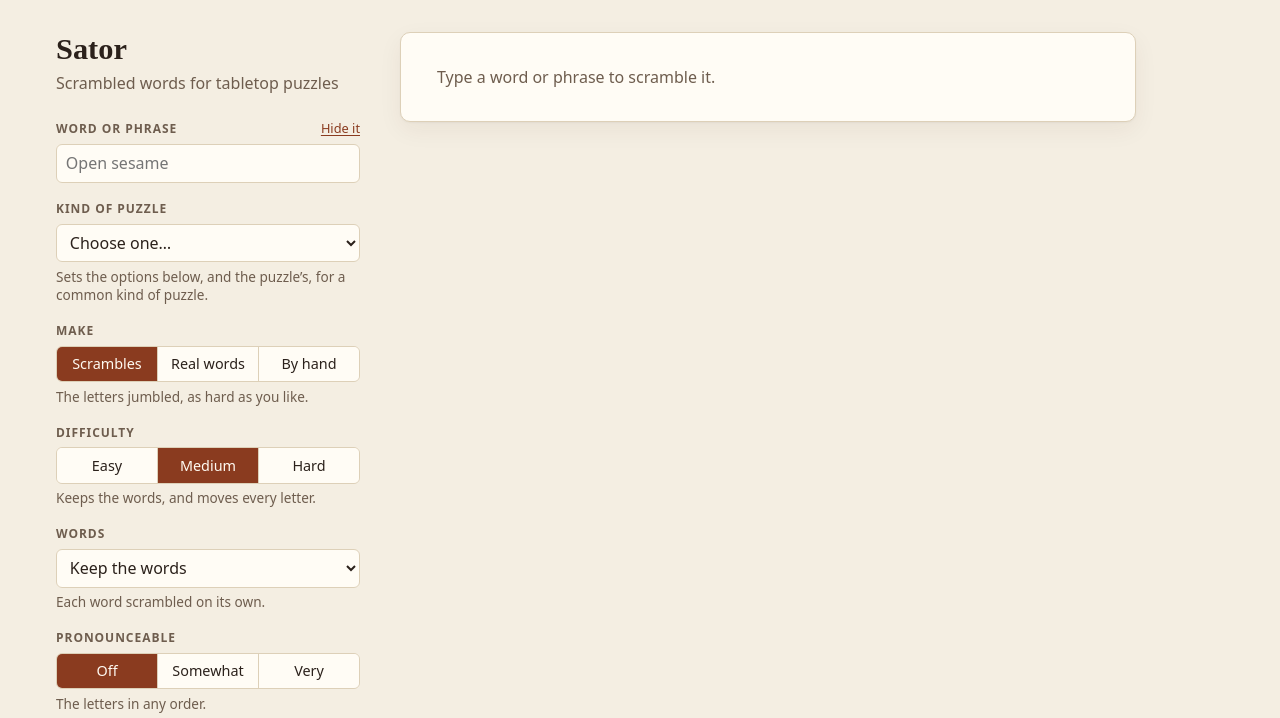
Test case: App › says so when it can’t copy
This screenshot has width=1280, height=718.
Type "listen" into the field labelled "Word or phrase" at (208, 163), box [56,144,360,182]
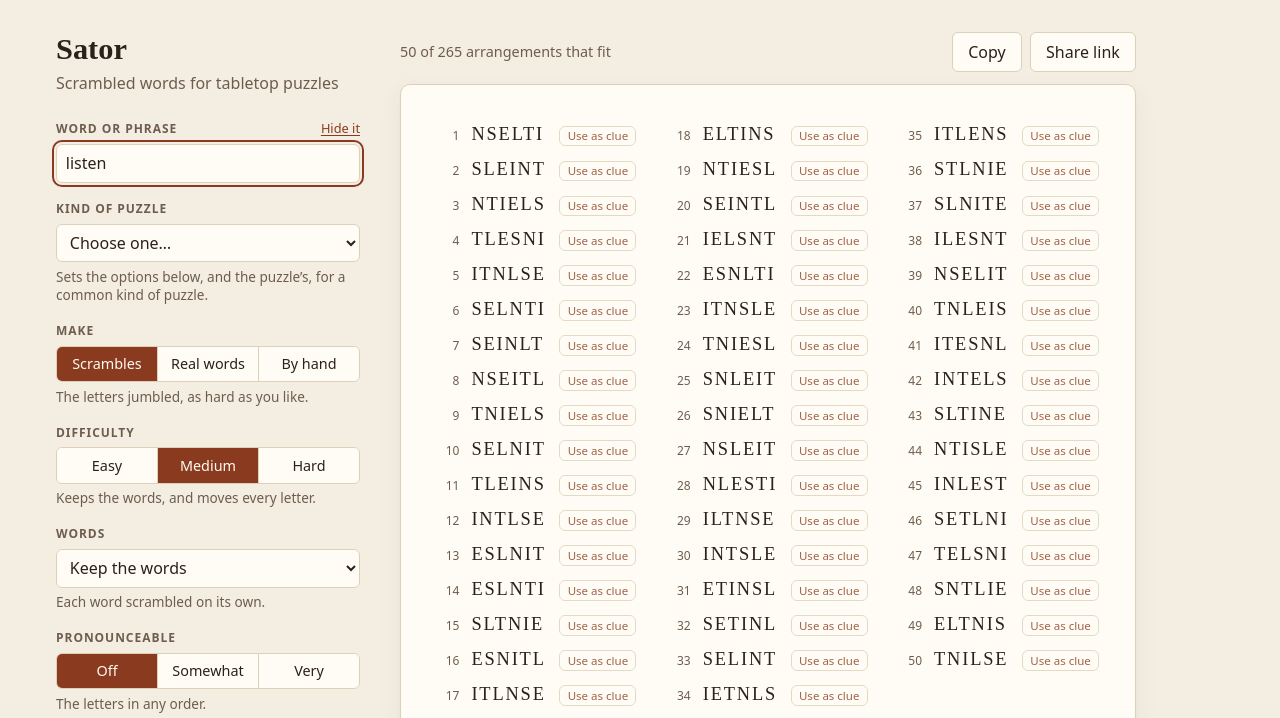
Click the button "Copy" at (987, 52), box [952,32,1022,72]
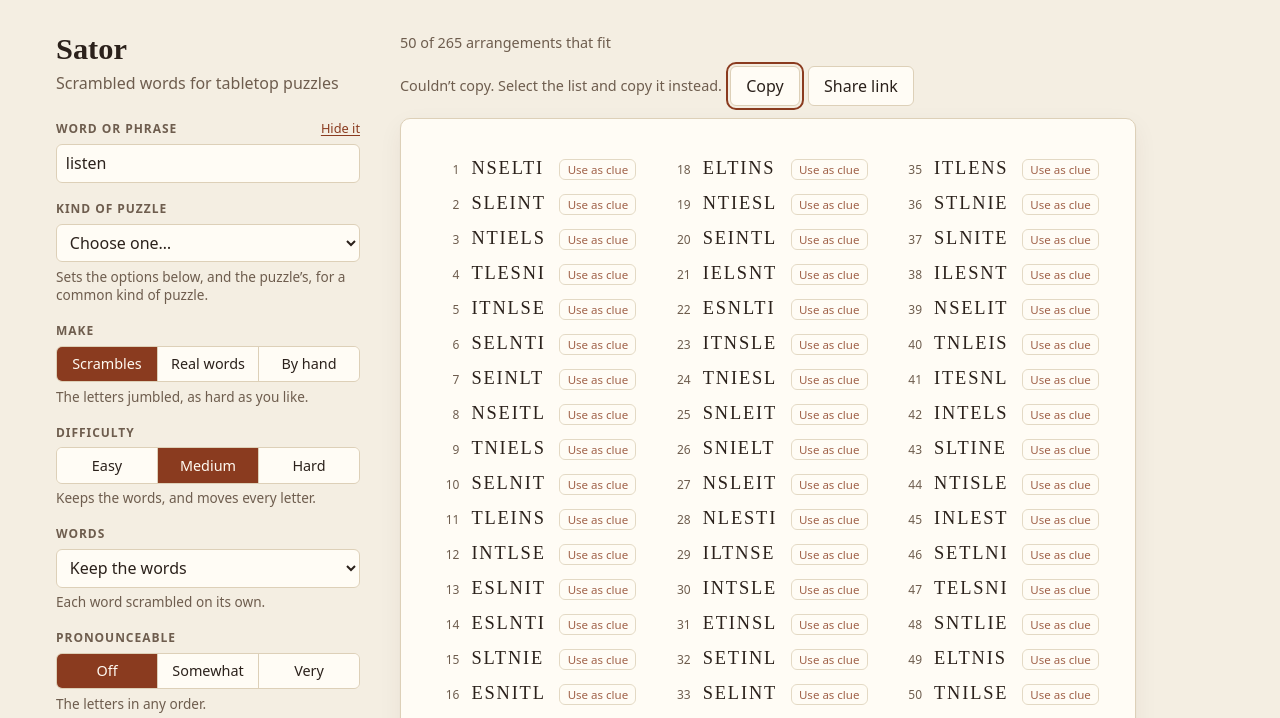
Now the message shows "Couldn’t copy", box [400,76,722,95]
